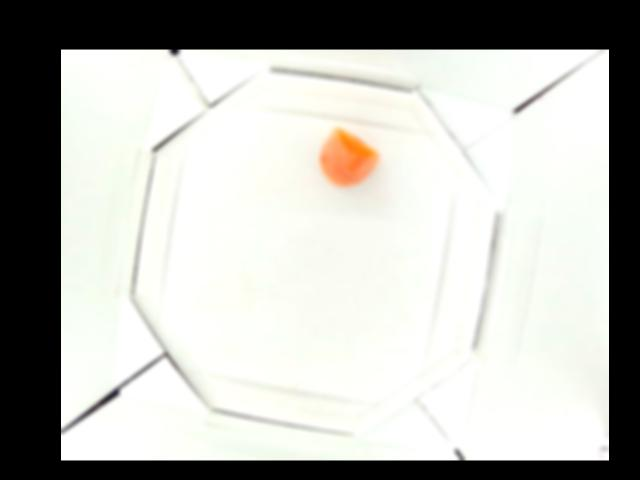Carrot: (318, 126, 376, 184)
